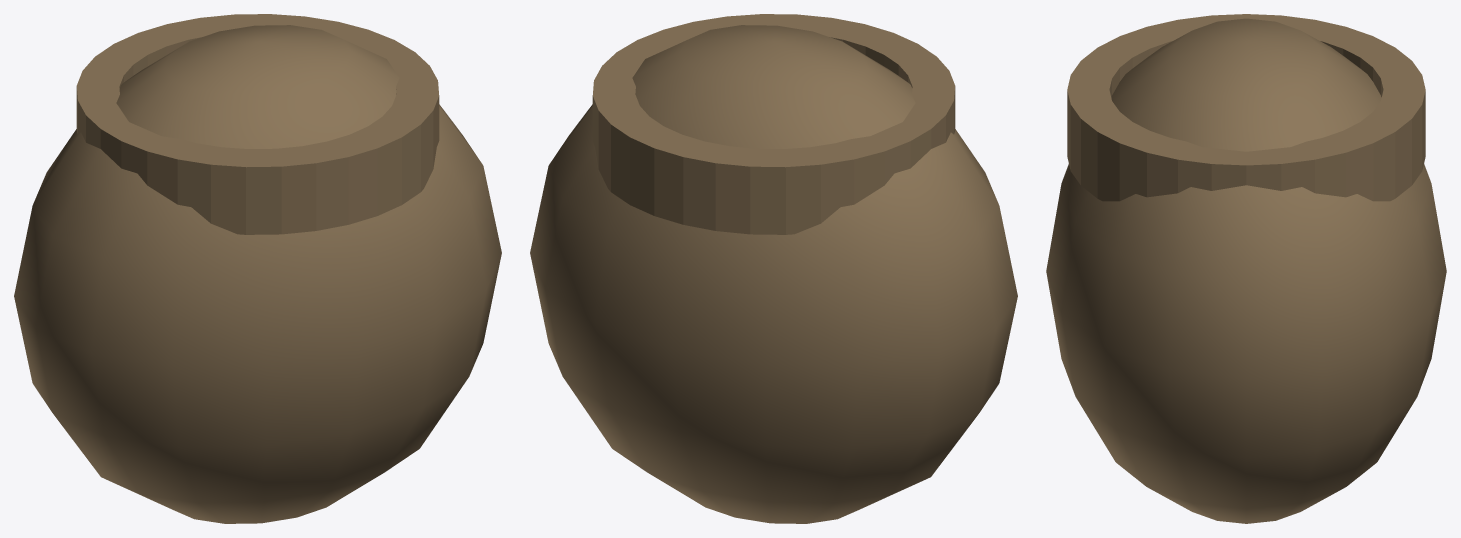
File: item-gunpowder.glb
3 views of the same model, side by side, from view 1: azimuth 30°, elevation 25°; view 2: azimuth 150°, elevation 25°; view 3: azimuth 270°, elevation 25° (orthographic).
Parts seen in each view (by area): view 1: gunpowder surfaces; view 2: gunpowder surfaces; view 3: gunpowder surfaces.
Boxes of the visible parts, x1=… form: gunpowder surfaces: x1=14, y1=14, x2=501, y2=523; gunpowder surfaces: x1=530, y1=14, x2=1017, y2=523; gunpowder surfaces: x1=1046, y1=14, x2=1446, y2=523.
Size of the model in its own units: 0.48 by 0.48 by 0.38.
